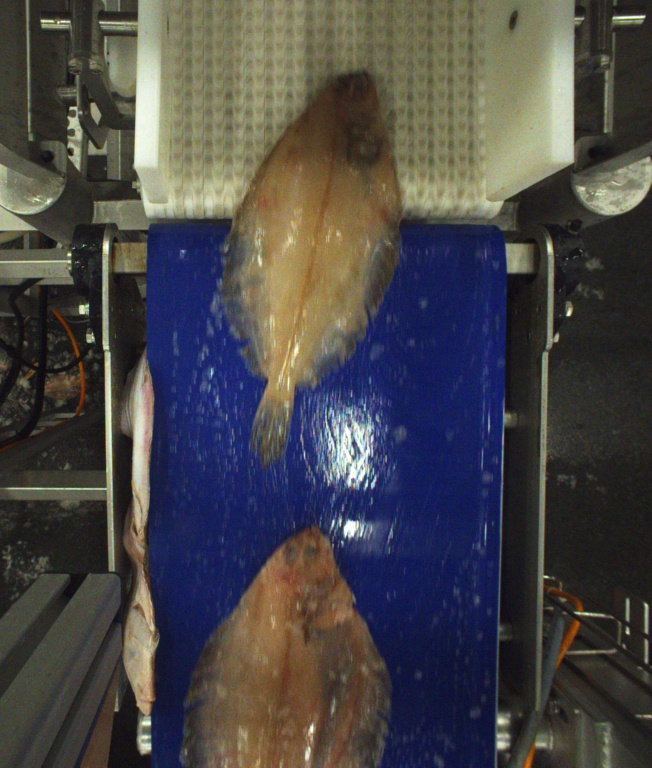WIT: (219, 67, 404, 469)
